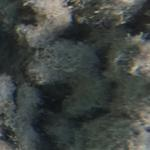dead: (6, 6, 143, 144)
